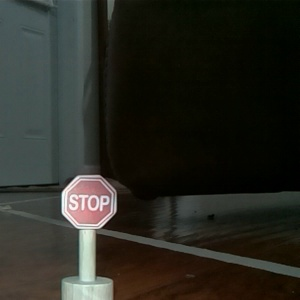stop sign: (58, 173, 121, 300)
